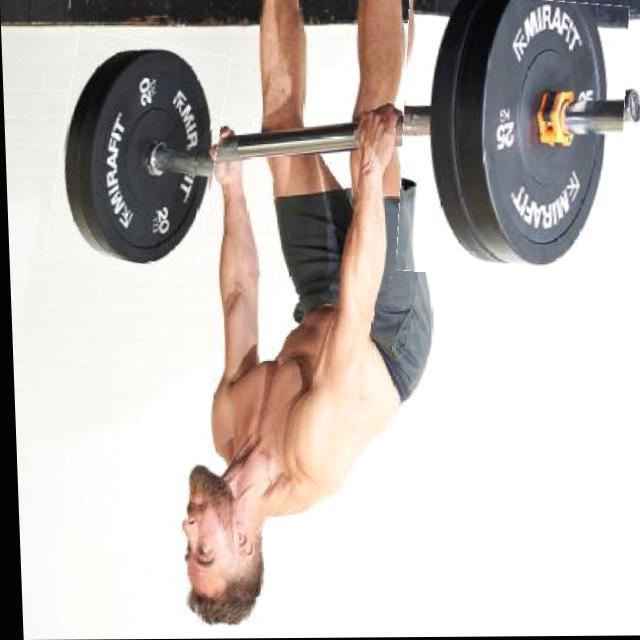barbell: (394, 1, 632, 287), (48, 37, 228, 279)
